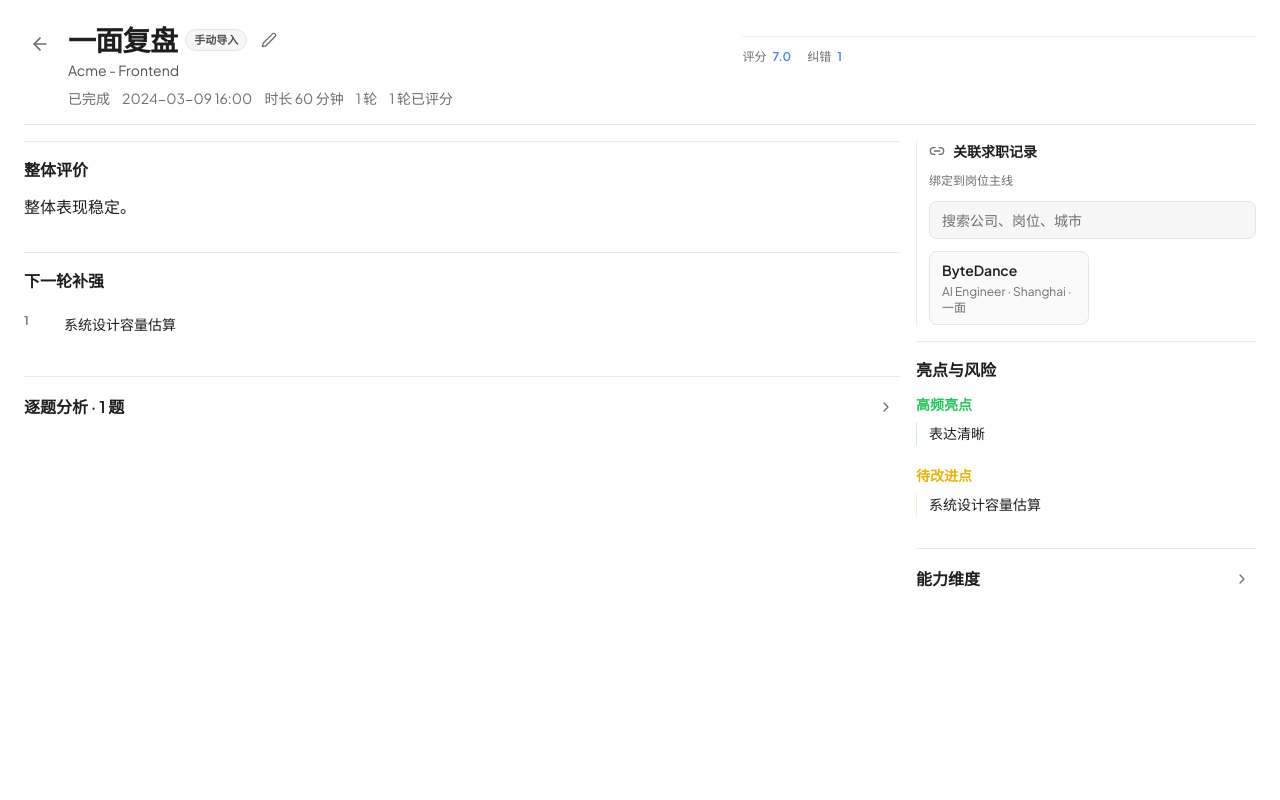
Test: ReviewSessionDetail › shows corrected candidate answers while keeping original ASR text expandable
Expected: the heading "逐题分析 · 1 题" is shown, [24,395,124,419]
Click the button "逐题分析 · 1 题" at coordinates (74, 406), box [24,381,900,433]
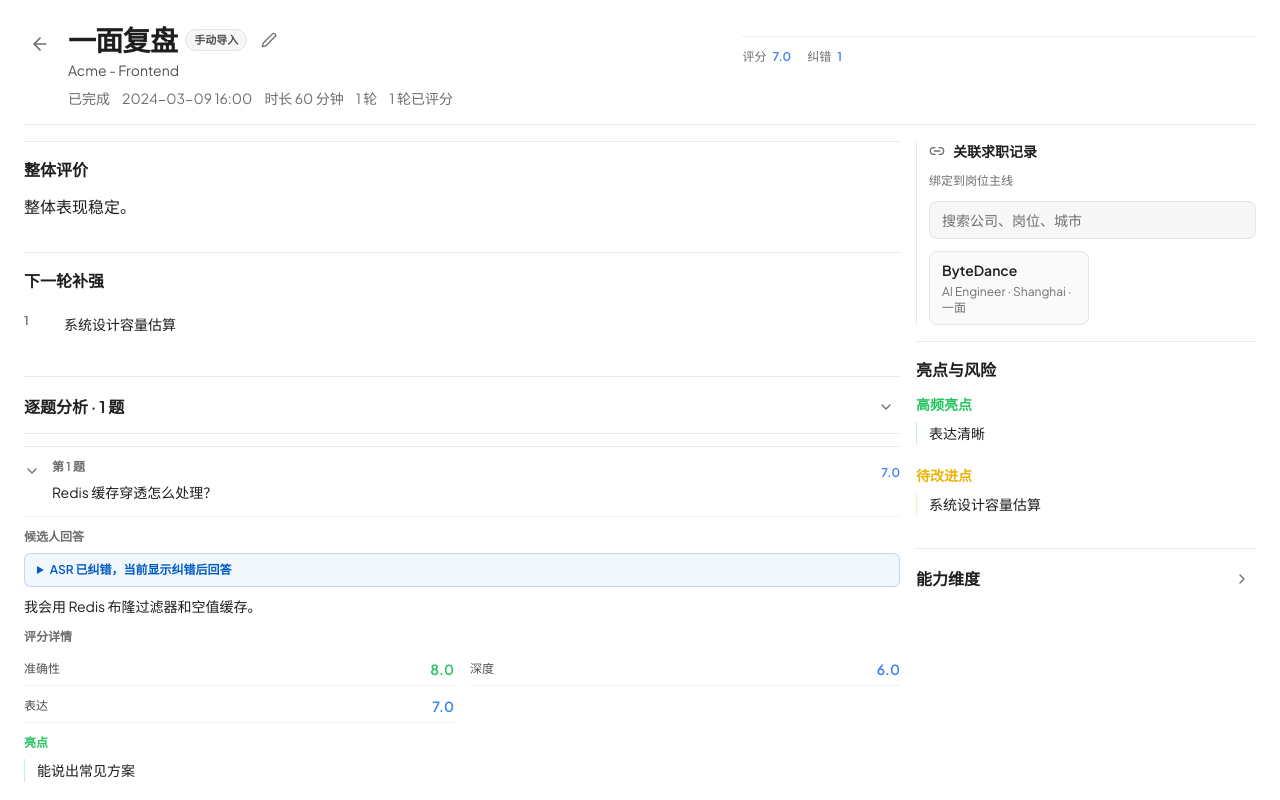
Result: the text "Redis 缓存穿透怎么处理？" is shown at [52,483,217,501]
Result: the heading "ASR 已纠错，当前显示纠错后回答" is shown at [50,562,232,576]
Result: the text "我会用 Redis 布隆过滤器和空值缓存。" is shown at [24,596,262,614]
